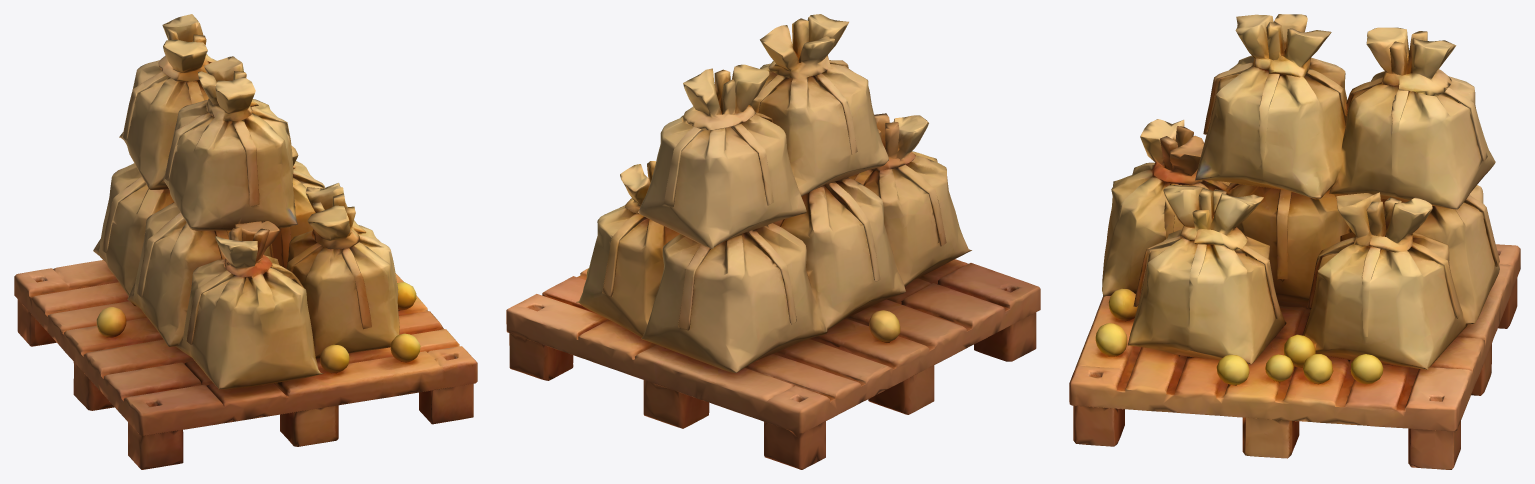
Rendered from sacaria.glb.
The picture shows the model from 3 angles, left to right: view 1: azimuth 30°, elevation 25°; view 2: azimuth 150°, elevation 25°; view 3: azimuth 270°, elevation 25°; orthographic projection. The views are drawn at different scales.
Parts seen in each view (by area): view 1: tripo_node_03965bce-f2d5-4ea8-9ba7-cd0d4d44586d; view 2: tripo_node_03965bce-f2d5-4ea8-9ba7-cd0d4d44586d; view 3: tripo_node_03965bce-f2d5-4ea8-9ba7-cd0d4d44586d.
Boxes of the visible parts, x1,y1,x2,y2 form: tripo_node_03965bce-f2d5-4ea8-9ba7-cd0d4d44586d: (14,14,477,469); tripo_node_03965bce-f2d5-4ea8-9ba7-cd0d4d44586d: (506,14,1040,469); tripo_node_03965bce-f2d5-4ea8-9ba7-cd0d4d44586d: (1069,14,1520,469).
Size of the model in its own units: 0.9972 by 0.8399 by 1.
Materials: 1 (1 with a texture image).
